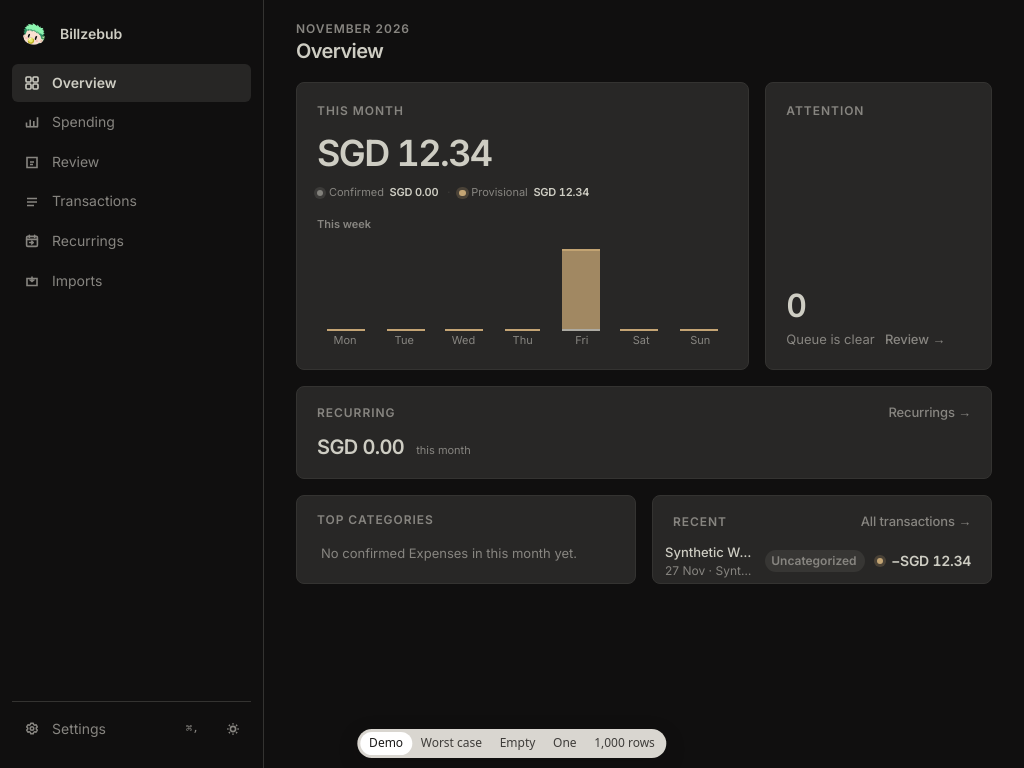
Scenario: App › shows a Provisional Real-time Claim in Overview and Transactions without a statement
Click the button "Provisional SGD 12.34". click: (524, 193)
box: x1=459 y1=185 x2=589 y2=201
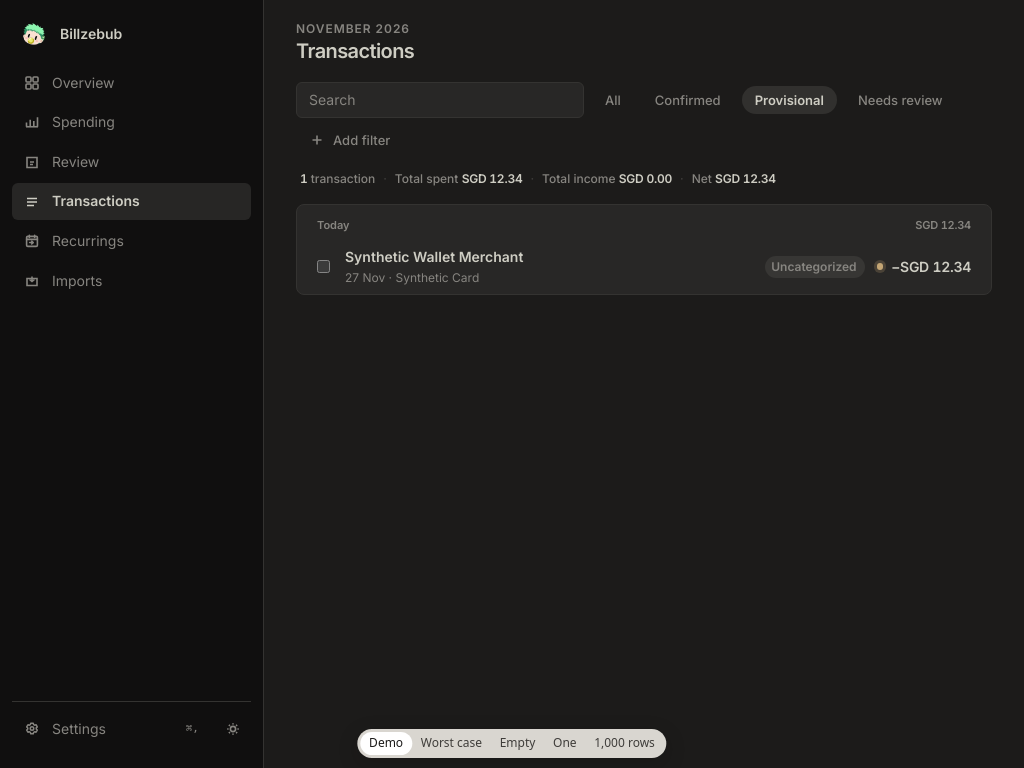
Expected: the text "Synthetic Wallet Merchant" is shown, x1=345 y1=248 x2=523 y2=265
Expected: the heading "Transactions" is shown, x1=296 y1=37 x2=414 y2=66
Click the button "Synthetic Wallet Merchant". click: (434, 257)
box: x1=333 y1=240 x2=991 y2=294
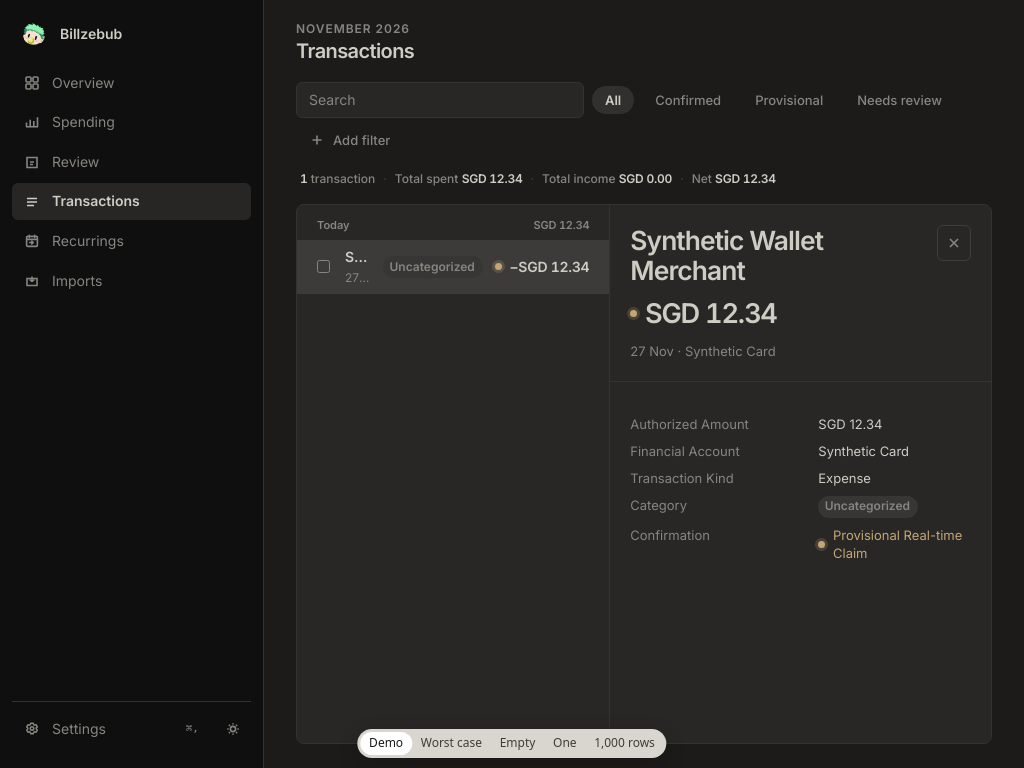
Expected: the text "Provisional Real-time Claim" is shown, x1=818 y1=526 x2=971 y2=563
